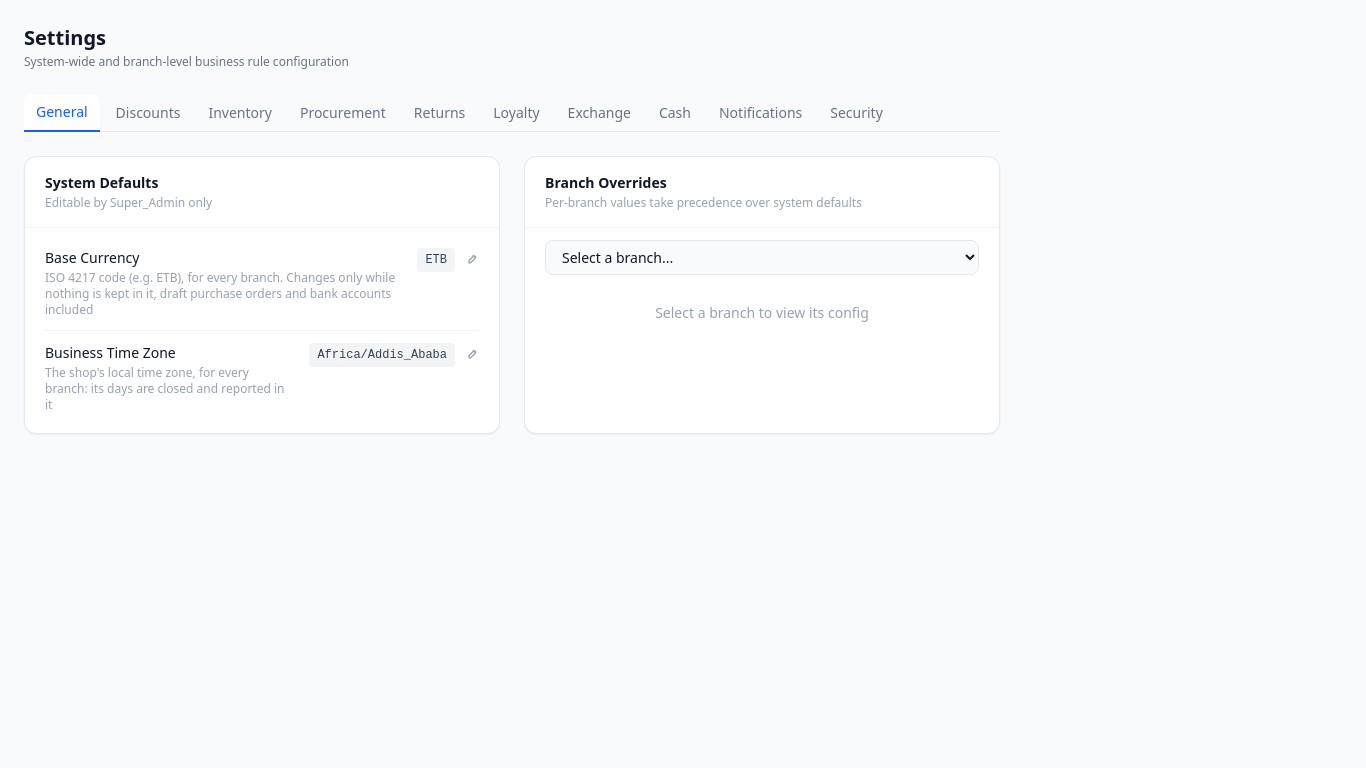
Test: Settings › refuses a currency that is not a three-letter ISO 4217 code and sends nothing
Click the button titled "Edit" in the row of "Base Currency" at (471, 260), box 463,252 -> 479,268
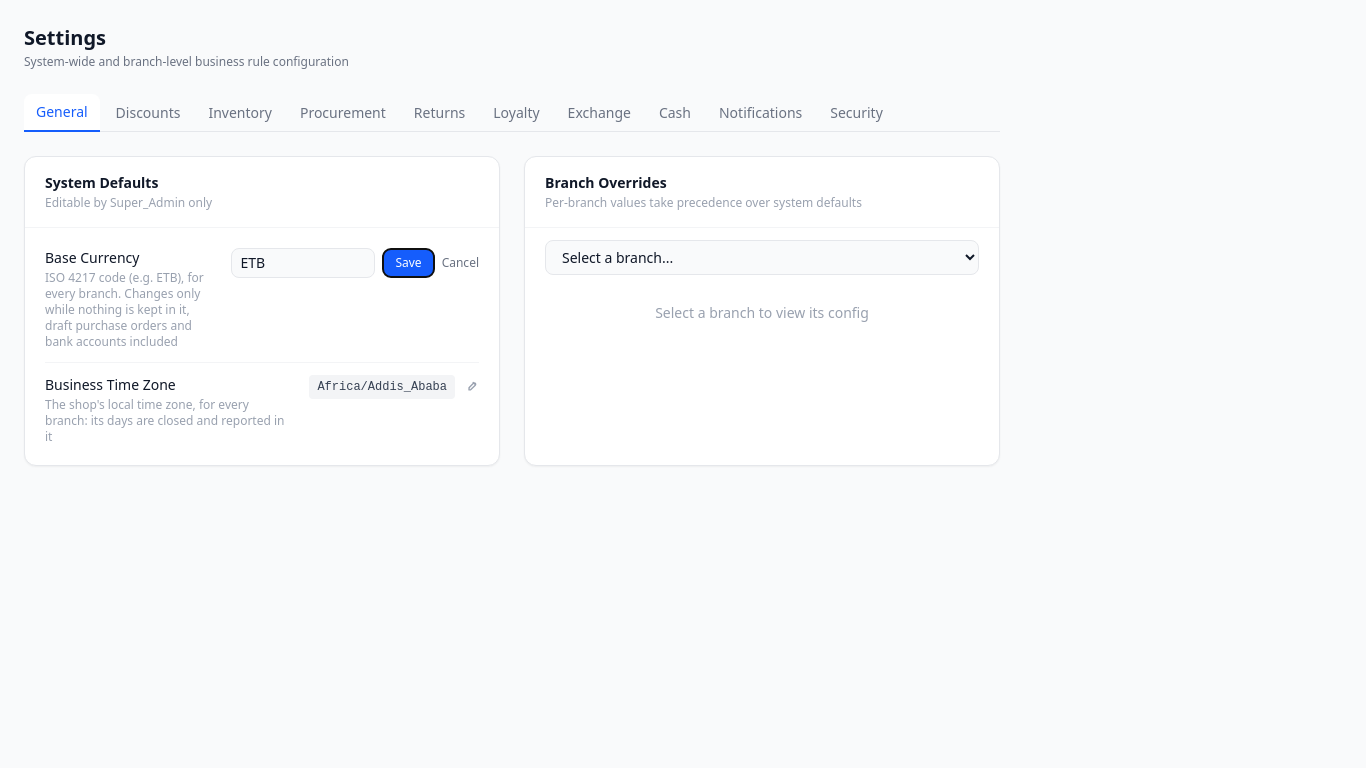
Replace the text in the field with "Birr" at (304, 263), box 232,248 -> 376,278
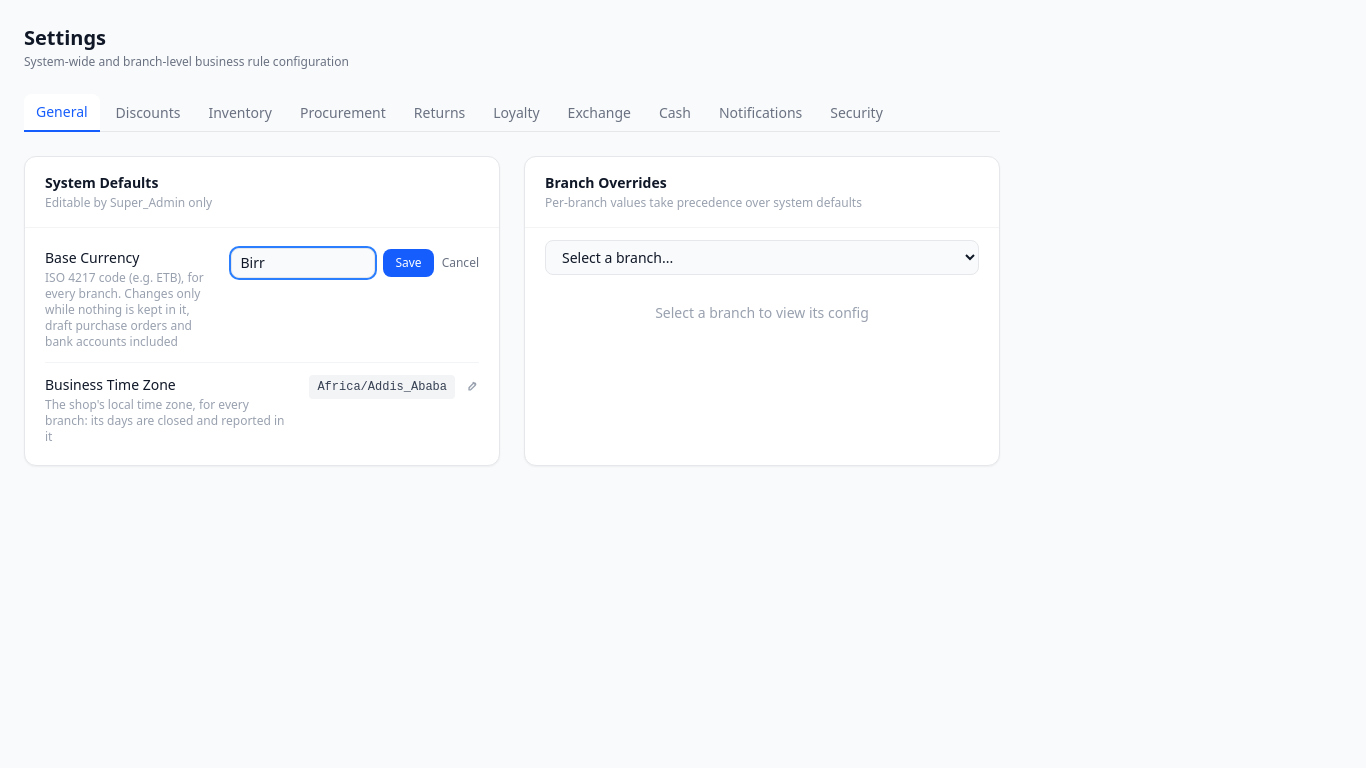
Click the button "Save" at (409, 263), box 384,249 -> 434,277
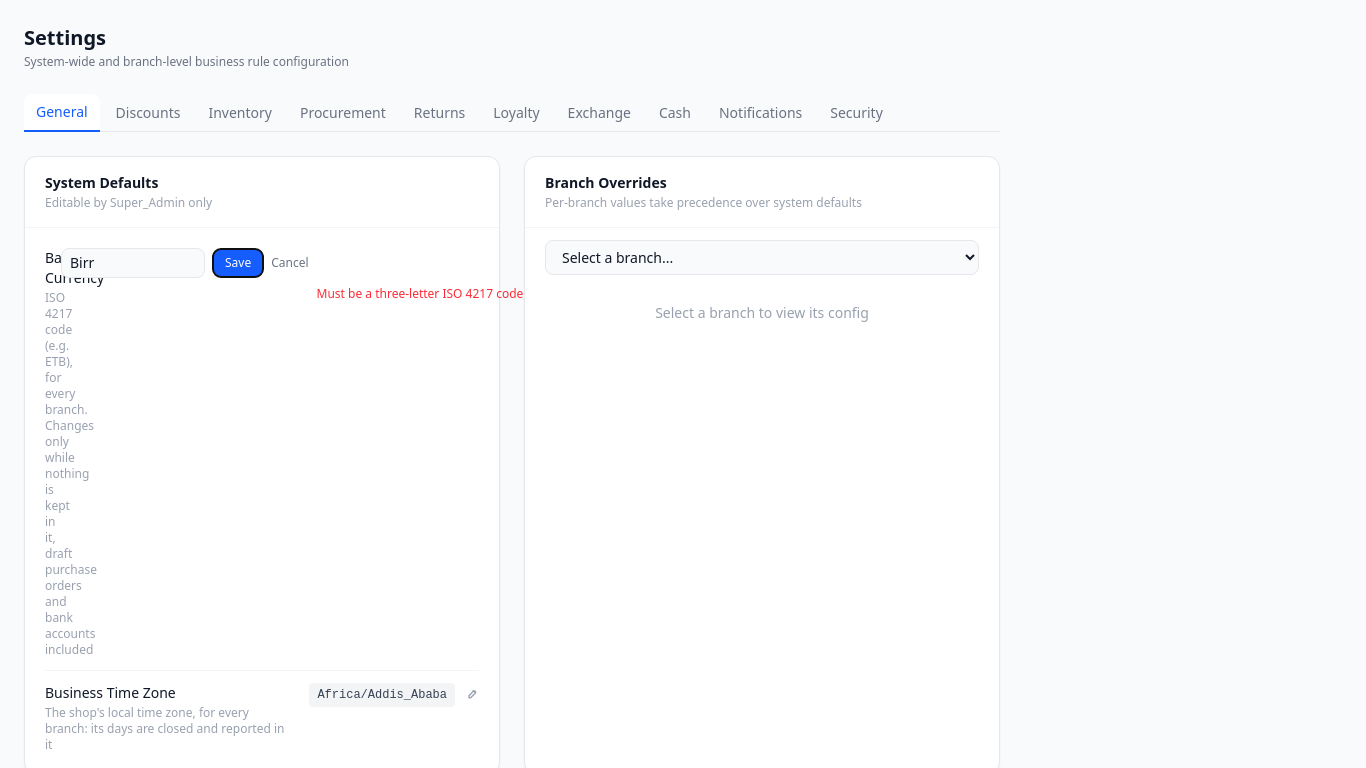
Result: the message shows "three-letter ISO 4217 code" at 316,285 -> 574,302
